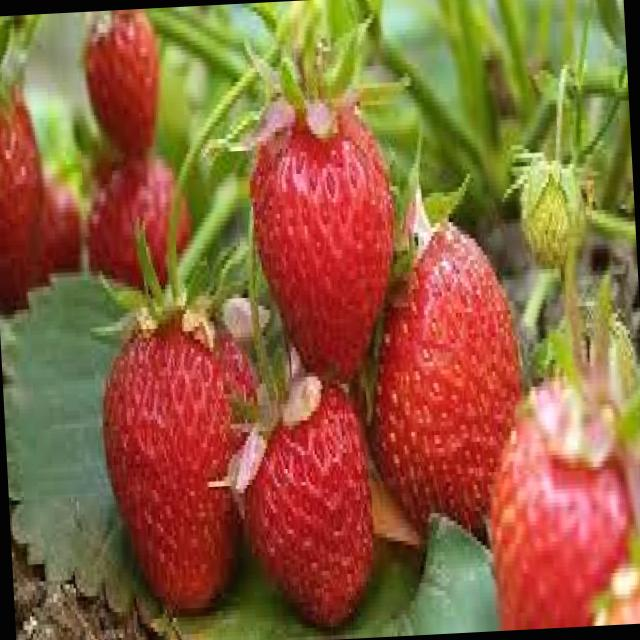strawberry: (96, 254, 256, 612), (236, 41, 401, 386), (365, 192, 520, 520), (232, 374, 385, 640), (493, 387, 640, 631)
